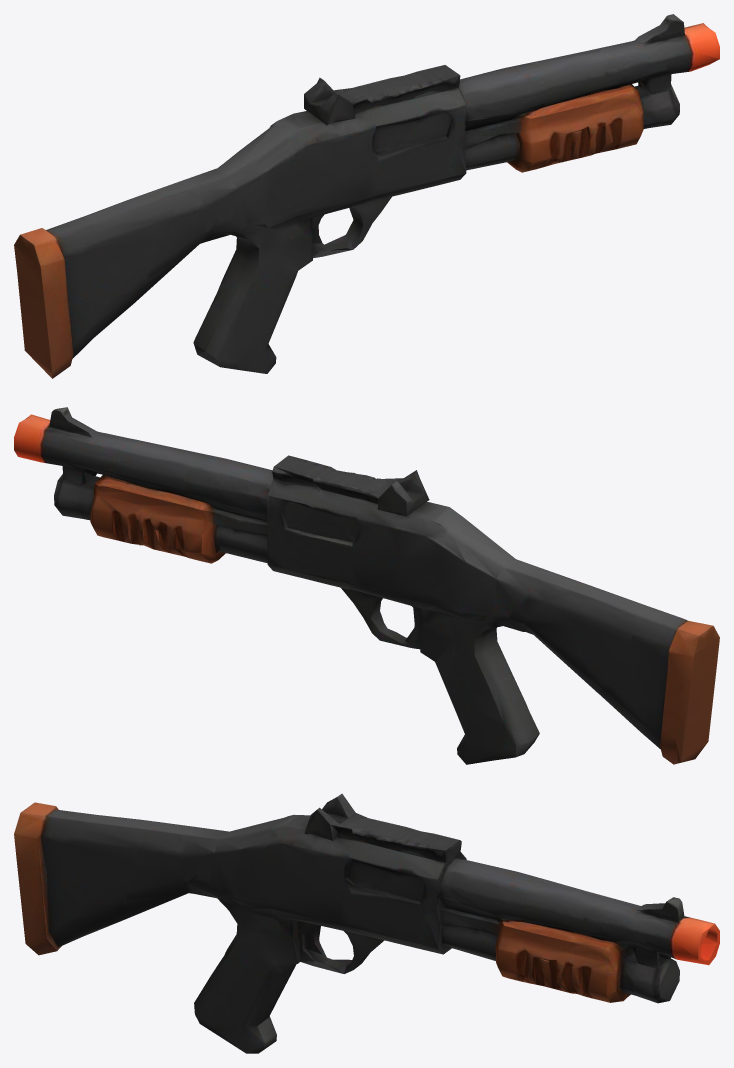
File: arma_espingarda.glb
3 views of the same model, one above another, from view 1: azimuth 30°, elevation 25°; view 2: azimuth 150°, elevation 25°; view 3: azimuth 330°, elevation 25° (orthographic).
Parts seen in each view (by area): view 1: tripo_node_1f174edd-da46-4686-8a34-7cac62f8fbdf; view 2: tripo_node_1f174edd-da46-4686-8a34-7cac62f8fbdf; view 3: tripo_node_1f174edd-da46-4686-8a34-7cac62f8fbdf.
Part boxes in pixels (x1=…): tripo_node_1f174edd-da46-4686-8a34-7cac62f8fbdf: x1=14, y1=14, x2=719, y2=378; tripo_node_1f174edd-da46-4686-8a34-7cac62f8fbdf: x1=14, y1=407, x2=719, y2=764; tripo_node_1f174edd-da46-4686-8a34-7cac62f8fbdf: x1=14, y1=793, x2=719, y2=1053.
Size of the model in its own units: 1 by 0.3706 by 0.0867.
Materials: 1 (1 with a texture image).
